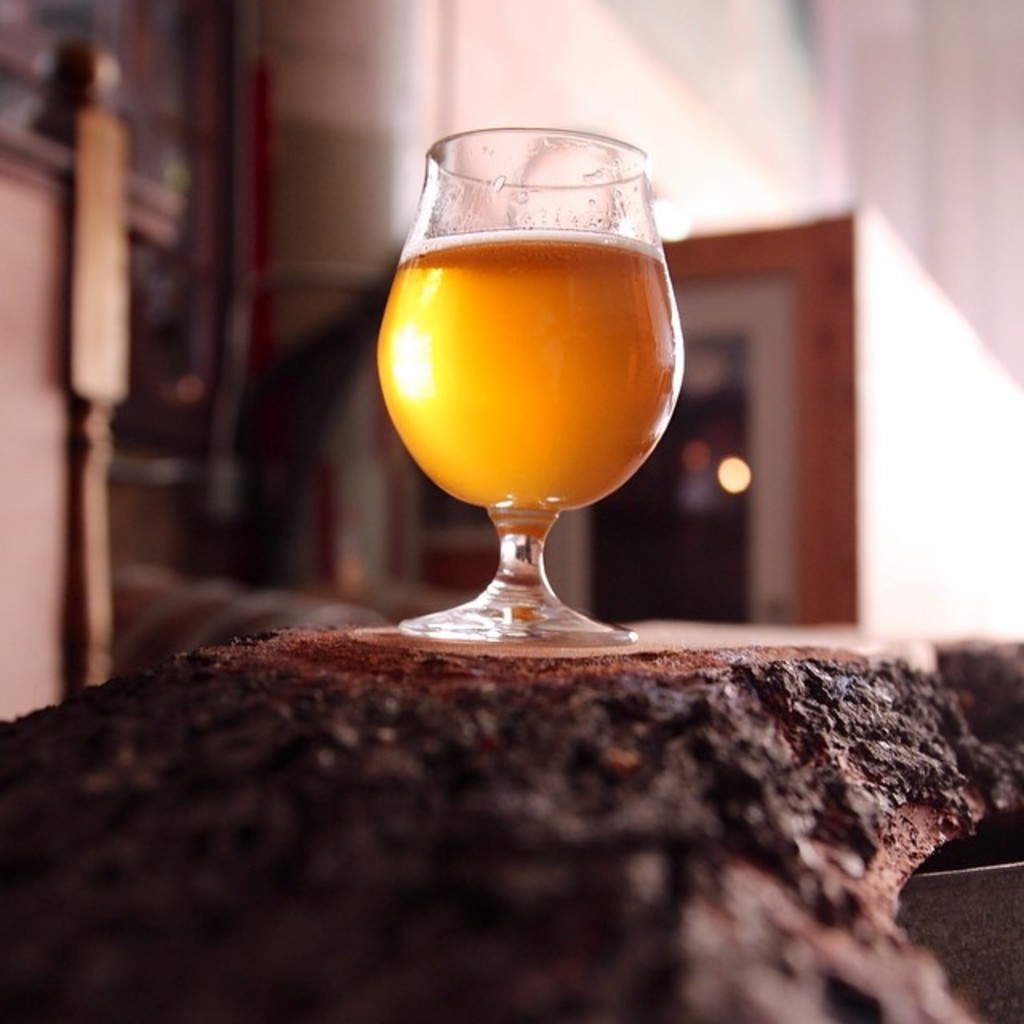Beer: (374, 224, 686, 512)
